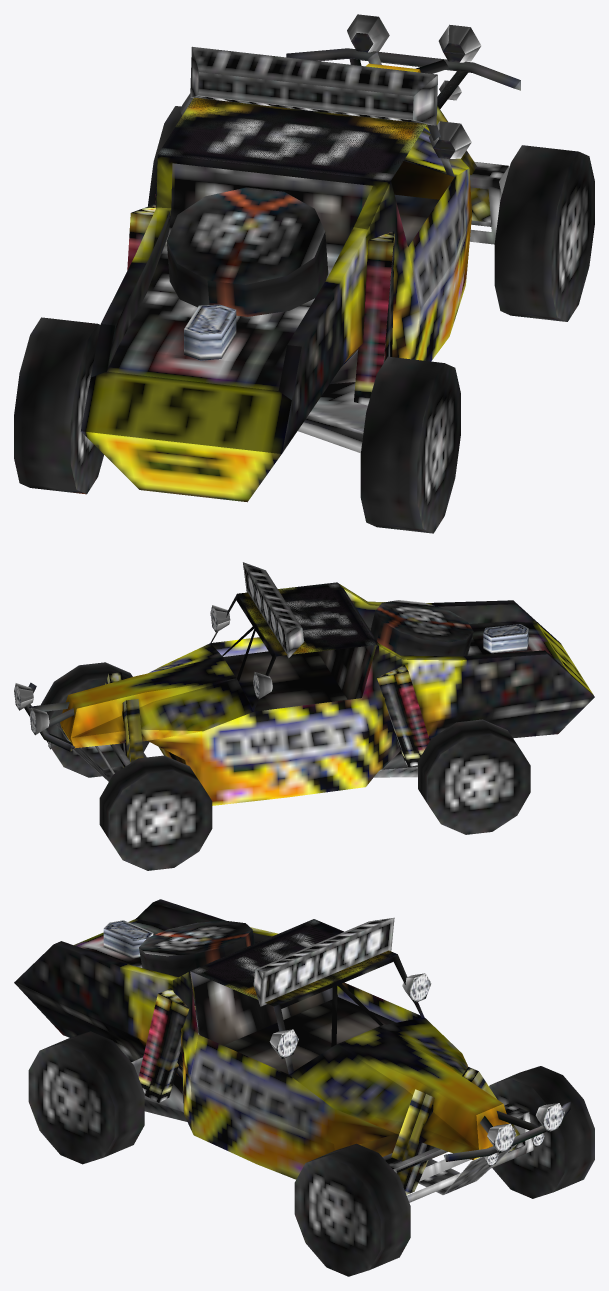
Rendered from baja.ico.obj.
3 views of the same model, one above another, from view 1: azimuth 30°, elevation 25°; view 2: azimuth 150°, elevation 25°; view 3: azimuth 270°, elevation 25° (orthographic). The views are drawn at different scales.
Size of the model in its own units: 5 by 2.21 by 5.
Materials: 1 (1 with a texture image).
